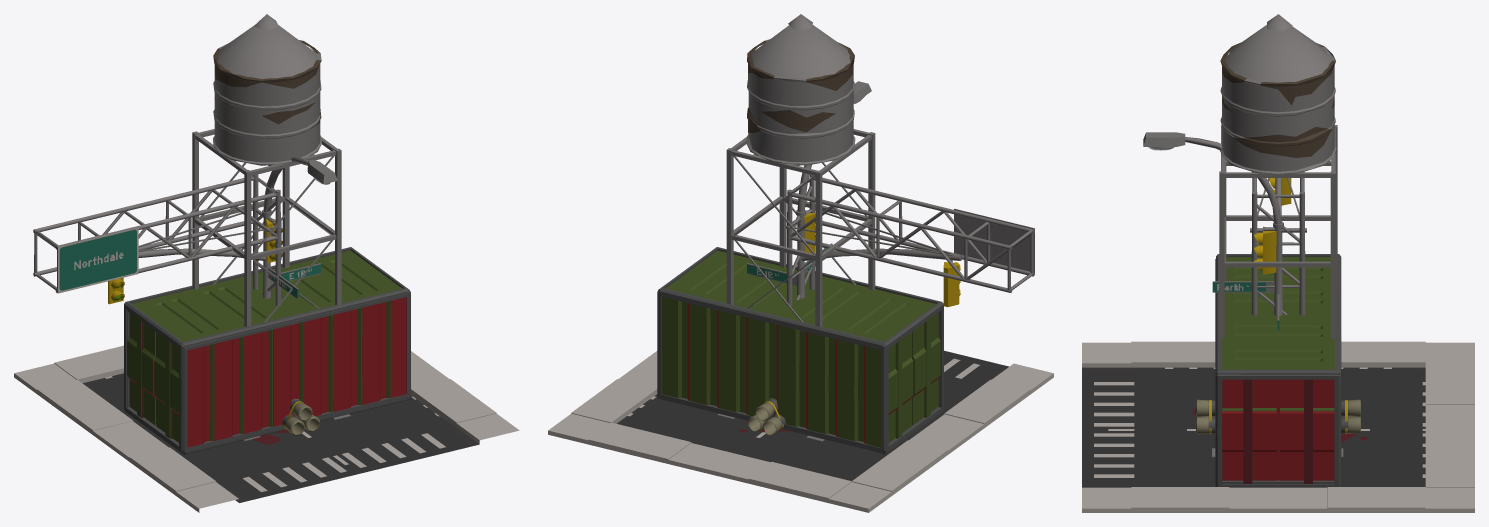
Rendered from props.glb.
3 views of the same model, side by side, from view 1: azimuth 30°, elevation 25°; view 2: azimuth 150°, elevation 25°; view 3: azimuth 270°, elevation 25° (orthographic). The views are drawn at different scales.
Parts seen in each view (by area): view 1: body (×13); view 2: body (×13); view 3: body (×13).
Boxes of the visible parts, bbox=[...] form: body (×13): bbox=[14, 14, 519, 512]; body (×13): bbox=[548, 14, 1053, 512]; body (×13): bbox=[1082, 14, 1474, 512].
Size of the model in its own units: 9.53 by 9.59 by 8.
